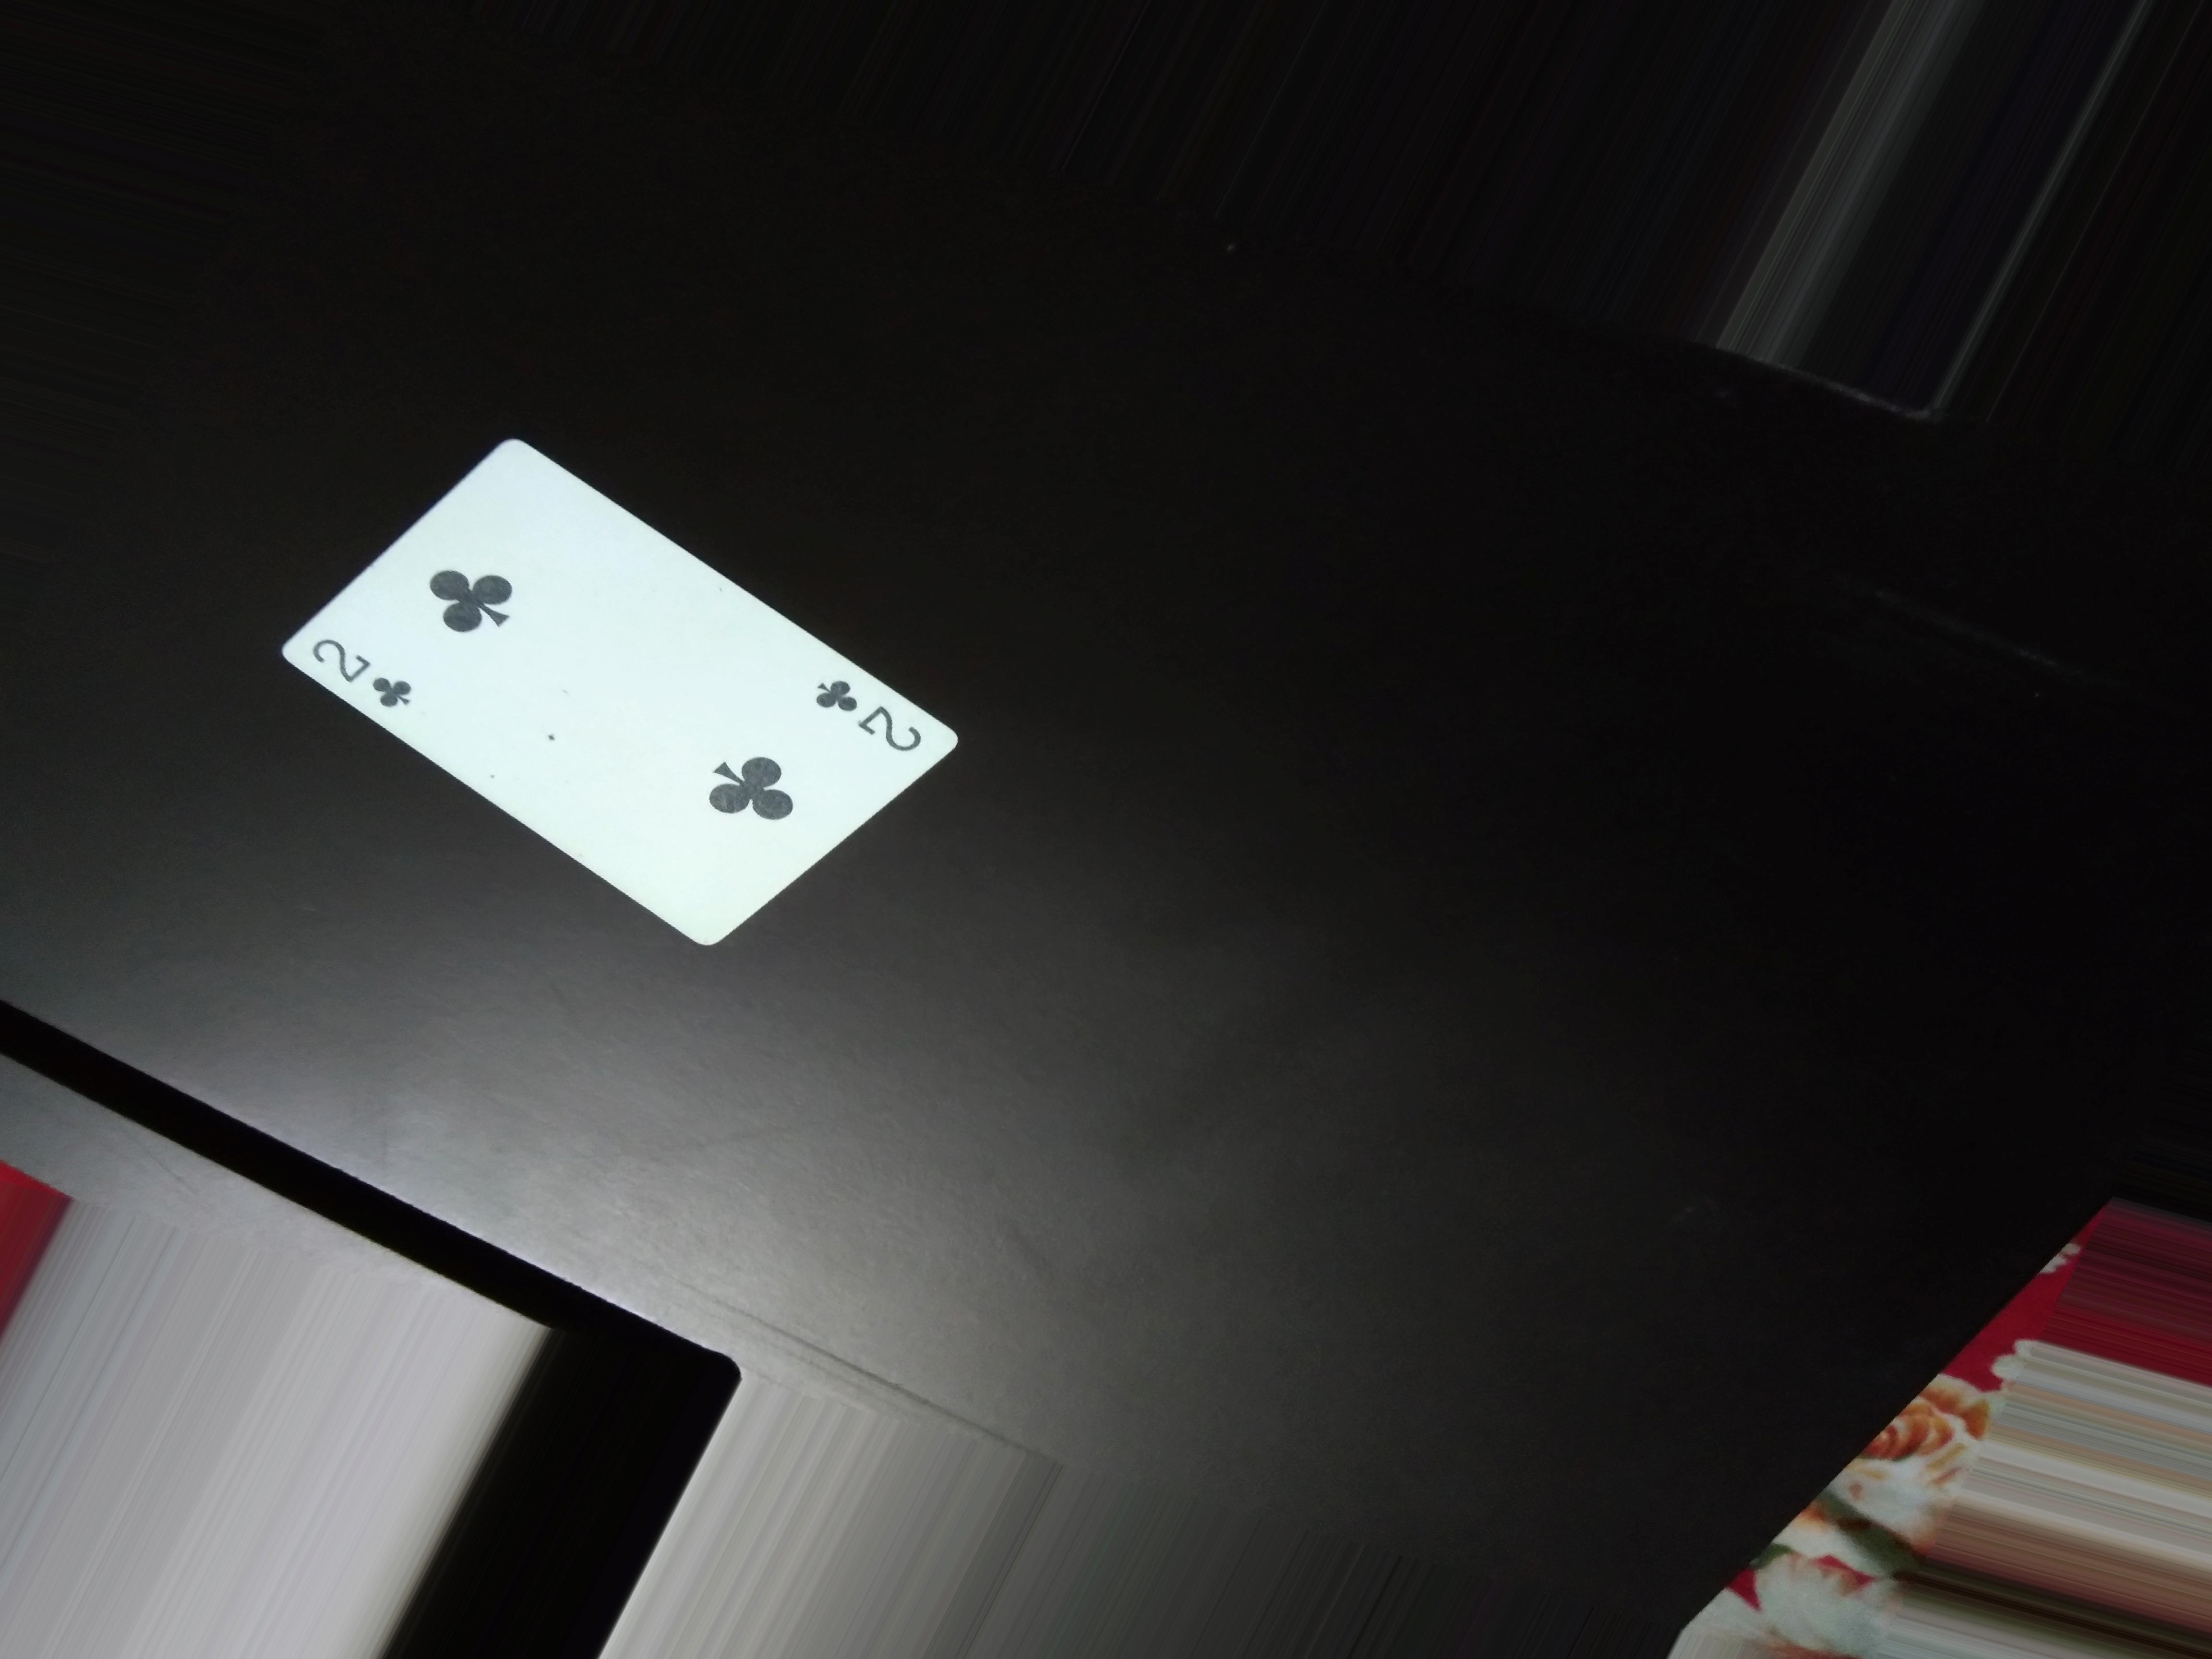2C: (293, 629, 415, 721)
